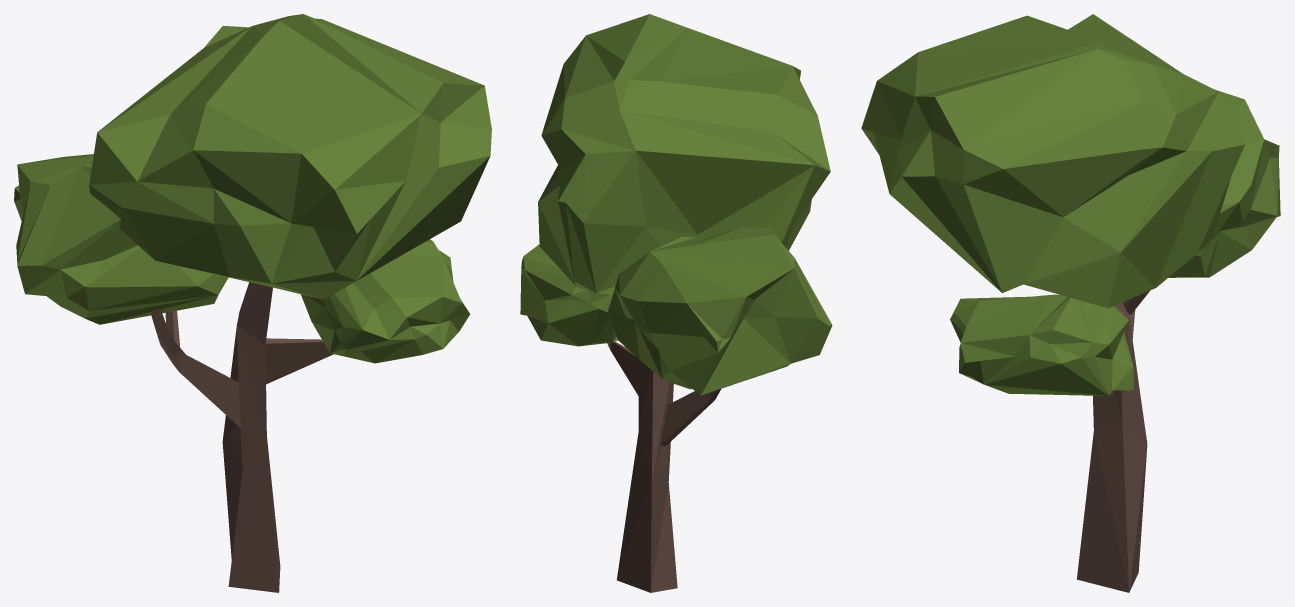
File: arbre_v3.fbx
The picture shows the model from 3 angles, left to right: view 1: azimuth 30°, elevation 25°; view 2: azimuth 150°, elevation 25°; view 3: azimuth 270°, elevation 25°; orthographic projection. The views are drawn at different scales.
Parts seen in each view (by area): view 1: Arbre_v3; view 2: Arbre_v3; view 3: Arbre_v3.
Boxes of the visible parts, left/top/right/bottom form: Arbre_v3: left=14, top=14, right=491, bottom=592; Arbre_v3: left=520, top=14, right=832, bottom=592; Arbre_v3: left=861, top=14, right=1280, bottom=592.
Size of the model in its own units: 229 by 319 by 221.
